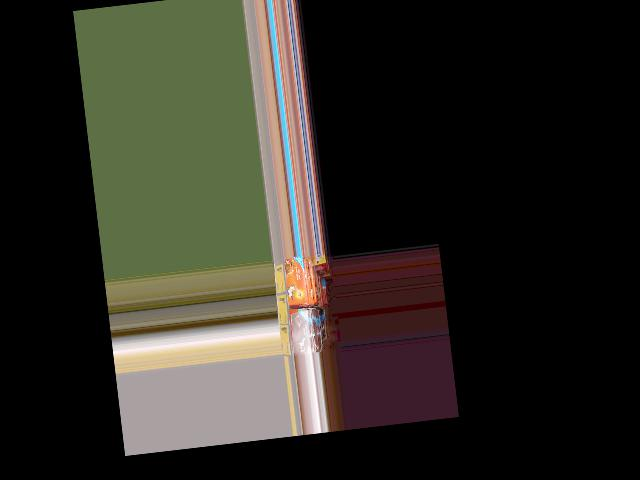chocolate: (284, 311, 315, 357)
